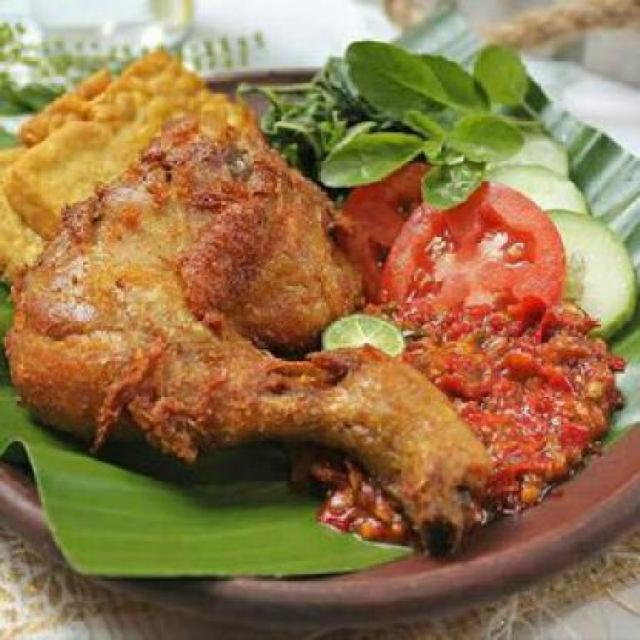Wet Waste: (12, 131, 496, 546), (0, 123, 131, 275), (16, 55, 256, 128)
